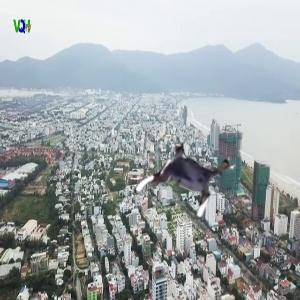drone: (140, 132, 233, 225)
